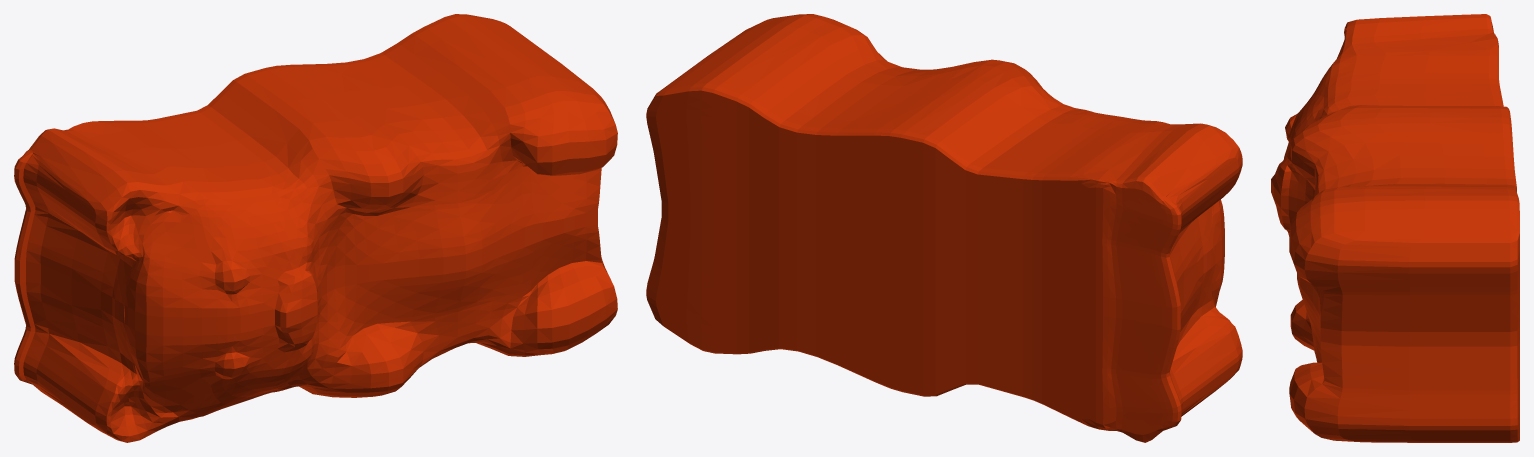
File: bear_0.glb
3 renders of one model, left to right at view 1: azimuth 30°, elevation 25°; view 2: azimuth 150°, elevation 25°; view 3: azimuth 270°, elevation 25°, orthographic. The views are drawn at different scales.
Parts seen in each view (by area): view 1: pasted__polySurface1_phong1_0; view 2: pasted__polySurface1_phong1_0; view 3: pasted__polySurface1_phong1_0.
Boxes of the visible parts, x1=… form: pasted__polySurface1_phong1_0: x1=14, y1=14, x2=617, y2=442; pasted__polySurface1_phong1_0: x1=646, y1=14, x2=1242, y2=442; pasted__polySurface1_phong1_0: x1=1271, y1=14, x2=1519, y2=442.
Bounding box in the file's own units: 1.17 × 0.5692 × 0.5369.
